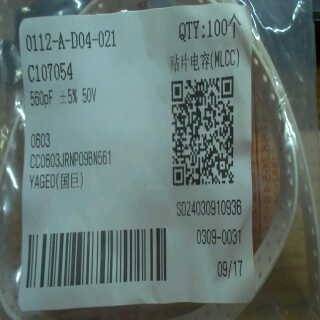560pF: (26, 85, 58, 110)
